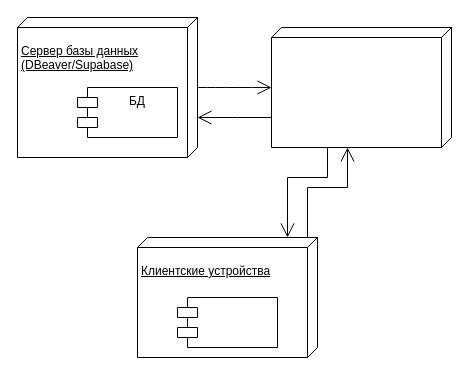
Image size: 469x375. Some labels were removed from this diagram. The centre of each missing label's shape, as x and y in pixels:
"API сервер" goes at (x=227, y=322).
"Сервер приложения" goes at (x=361, y=87).
